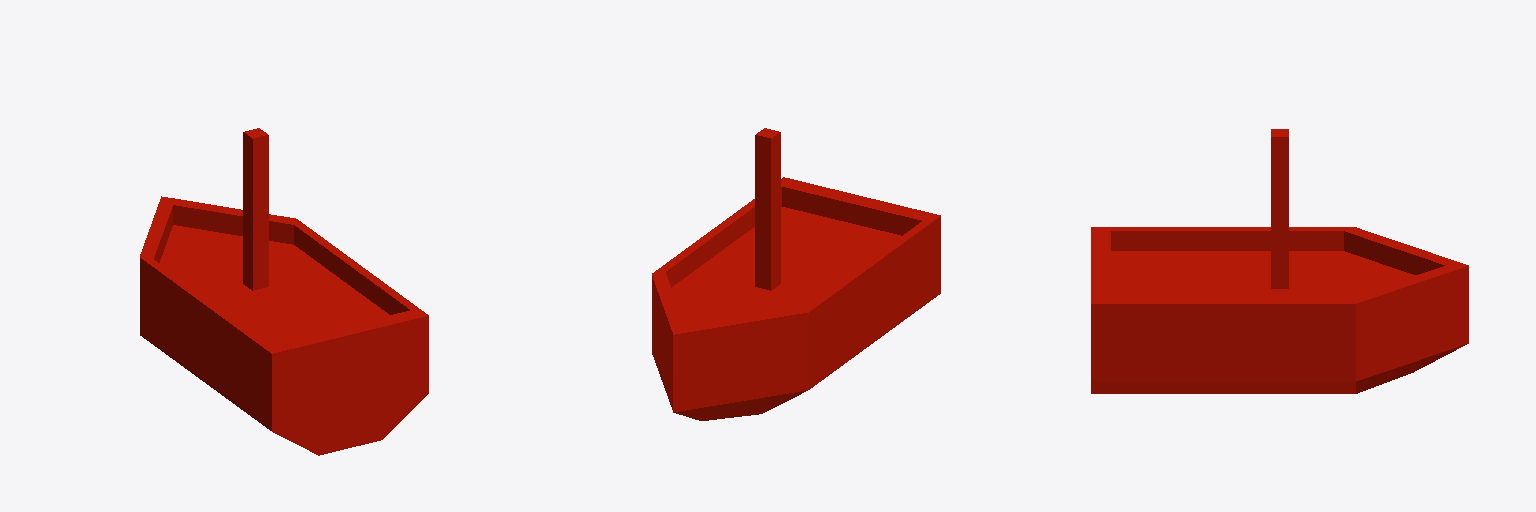
File: RandomShip.obj
3 renders of one model, left to right at view 1: azimuth 30°, elevation 25°; view 2: azimuth 150°, elevation 25°; view 3: azimuth 270°, elevation 25°, orthographic.
Parts seen in each view (by area): view 1: Cube.001; view 2: Cube.001; view 3: Cube.001.
Boxes of the visible parts, box(x1,y1,x2,y2) form: Cube.001: box(140, 128, 428, 455); Cube.001: box(652, 128, 940, 420); Cube.001: box(1091, 129, 1468, 393).
Size of the model in its own units: 0.96 by 1.43 by 2.